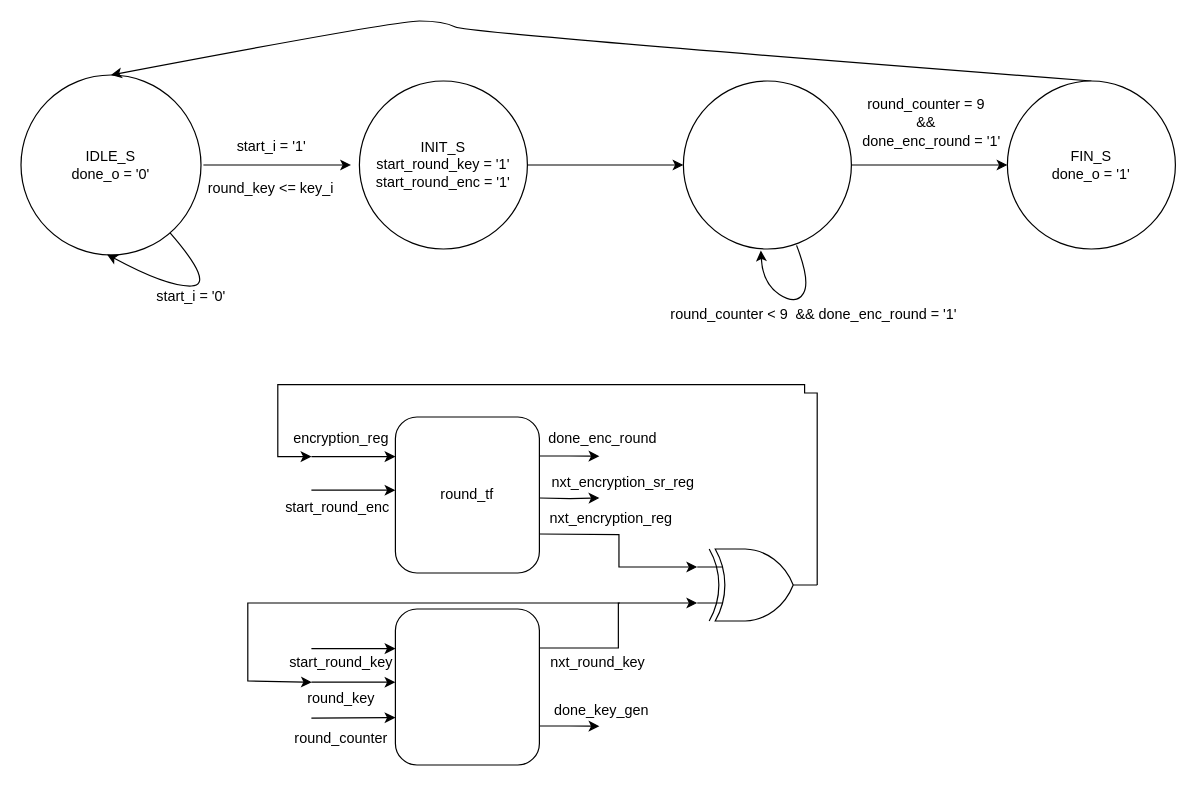
Image size: 1196x786. Some labels were removed from this diagram. Each missing label, with the centre of its shape:
"round_key_tf" belongs at (466,686).
"ROUND_S" belongs at (766,164).
